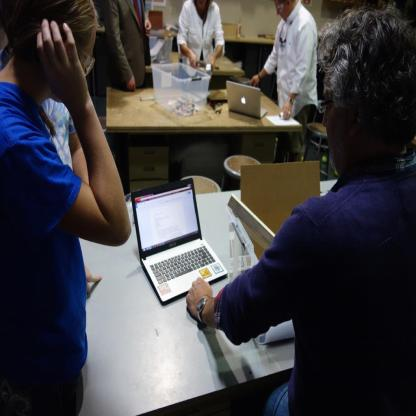board: (131, 174, 228, 306), (227, 81, 268, 117)
